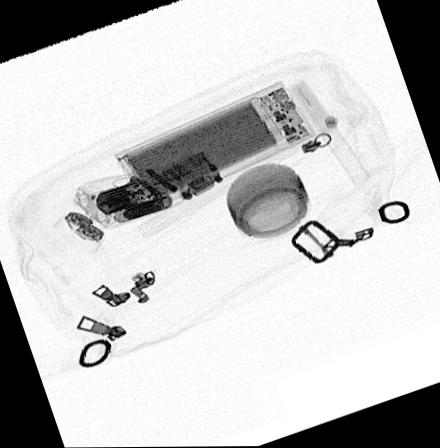Powerbank: (116, 80, 316, 210)
